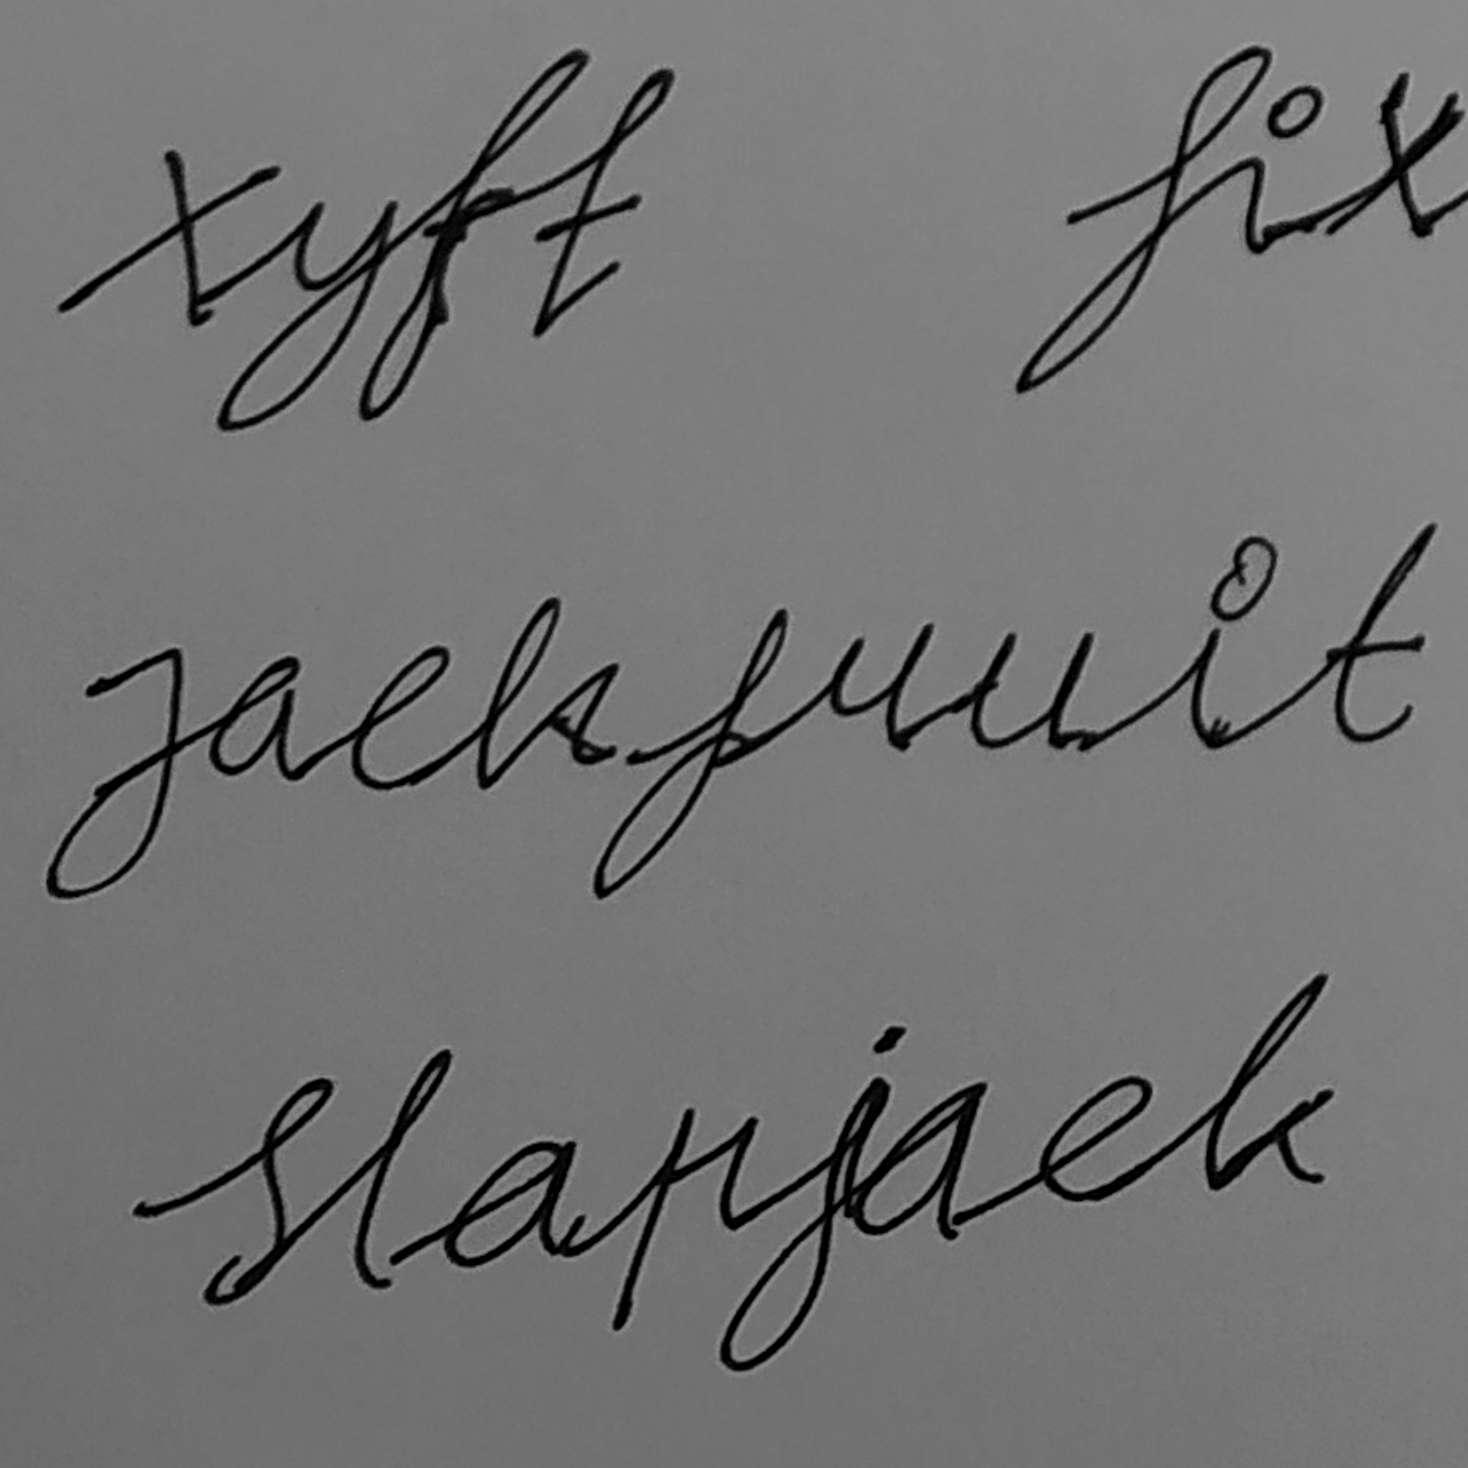a: (204, 651, 307, 789)
c: (348, 640, 454, 799)
f: (583, 604, 794, 903)
i: (1178, 532, 1282, 751)
j: (40, 641, 187, 909)
k: (471, 590, 625, 794)
r: (815, 617, 941, 761)
t: (1320, 518, 1442, 751)
u: (967, 622, 1100, 760)
